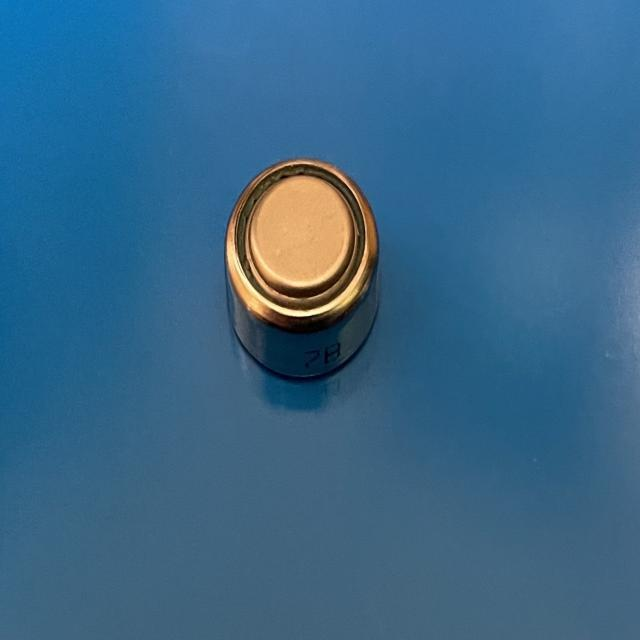COIN: (226, 156, 379, 379)
